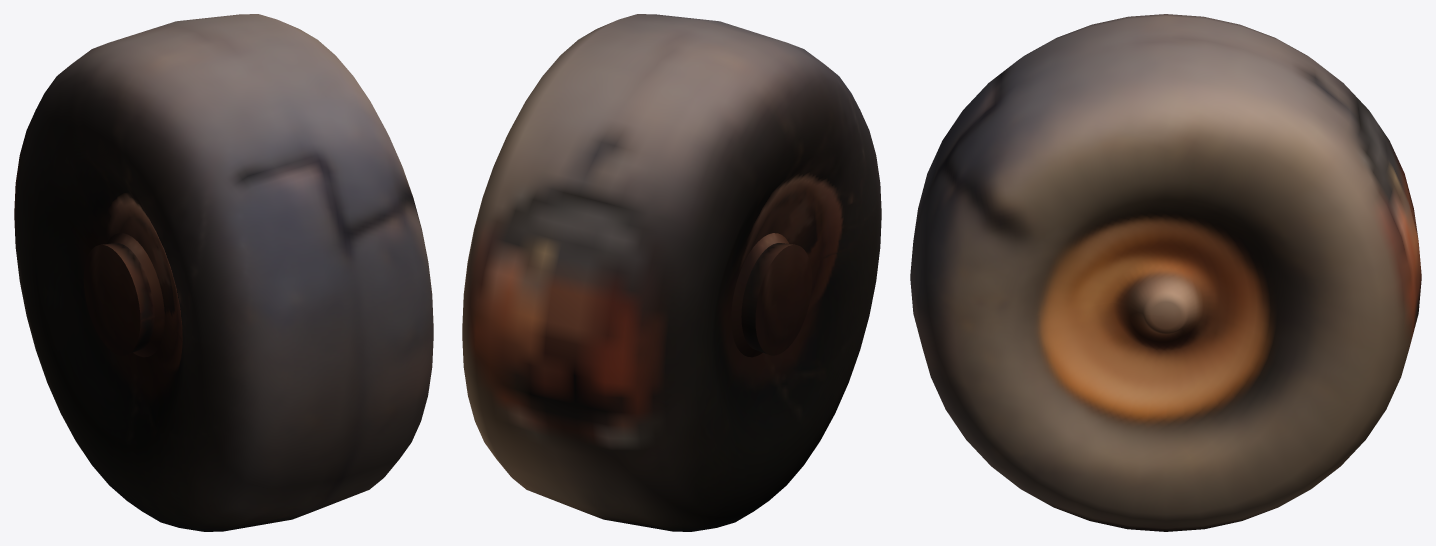
3 renders of one model, left to right at view 1: azimuth 30°, elevation 25°; view 2: azimuth 150°, elevation 25°; view 3: azimuth 270°, elevation 25°, orthographic.
Parts seen in each view (by area): view 1: wheel_FL; view 2: wheel_FL; view 3: wheel_FL.
Boxes of the visible parts, box(x1,y1,x2,y2) form: wheel_FL: box(14, 14, 433, 531); wheel_FL: box(462, 14, 881, 531); wheel_FL: box(910, 14, 1421, 531).
Bounding box in the file's own units: 0.146 × 0.2976 × 0.2976.
1 material, 1 textured.
